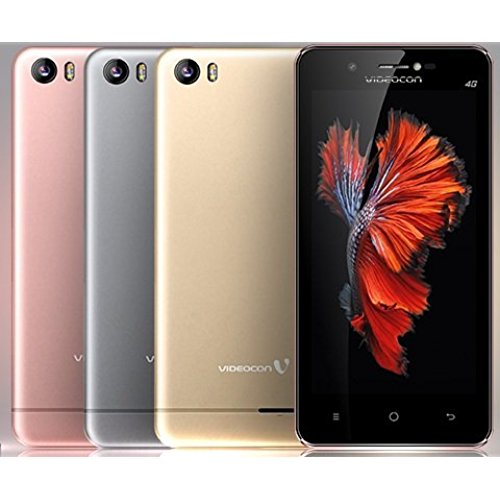mobile: (294, 44, 500, 448)
